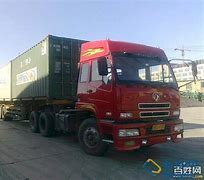bigtruck: (0, 33, 183, 154)
